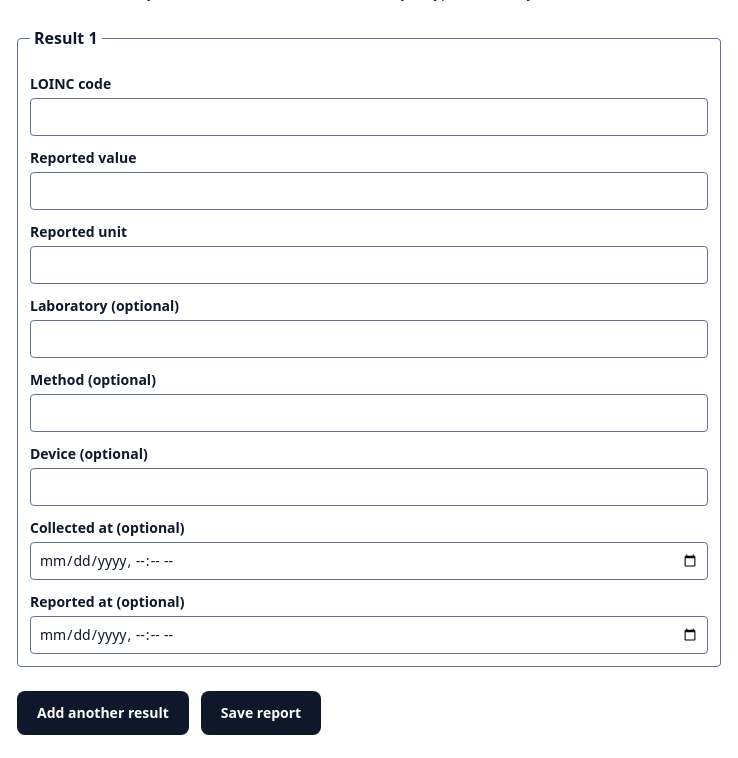
Scenario: removing the last row moves focus to the previous row
(page scrolled)
Click the button "Add another result" at (103, 713), box [17,691,189,735]
(page scrolled)
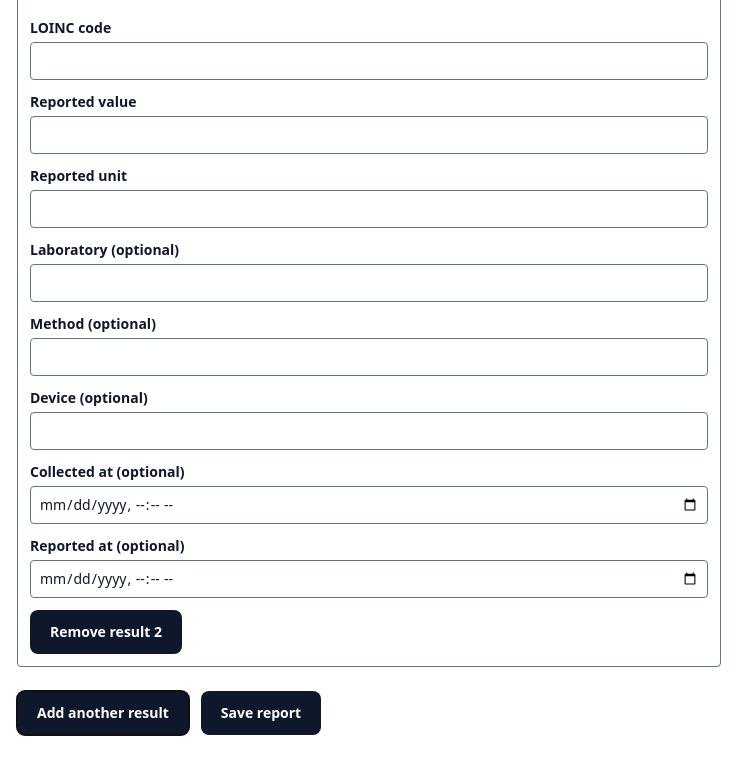
Click the button "Remove result 2" at (106, 632), box [30,610,182,654]
(page scrolled)
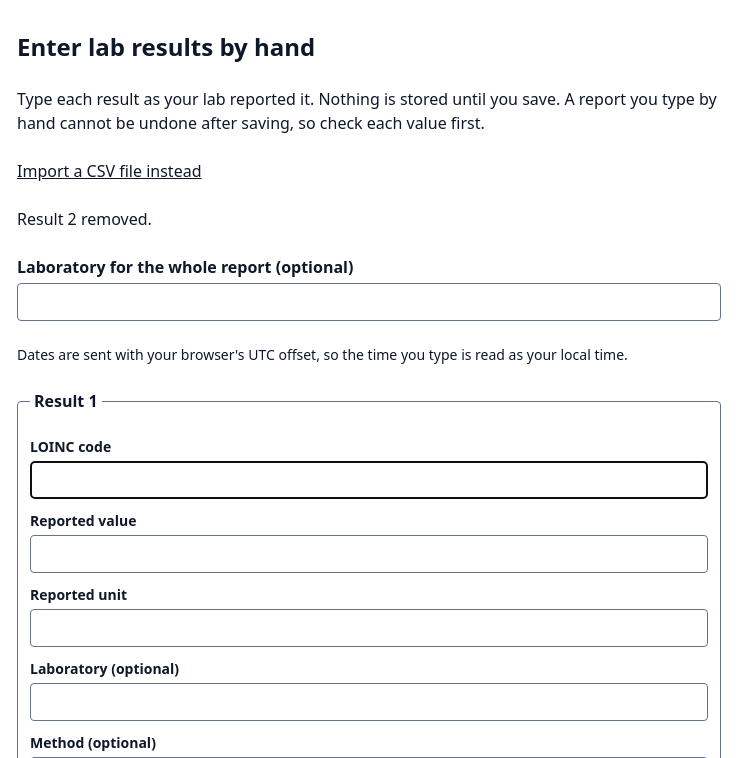
Expected: the message reads "Result 2 removed.", [17,208,152,230]
